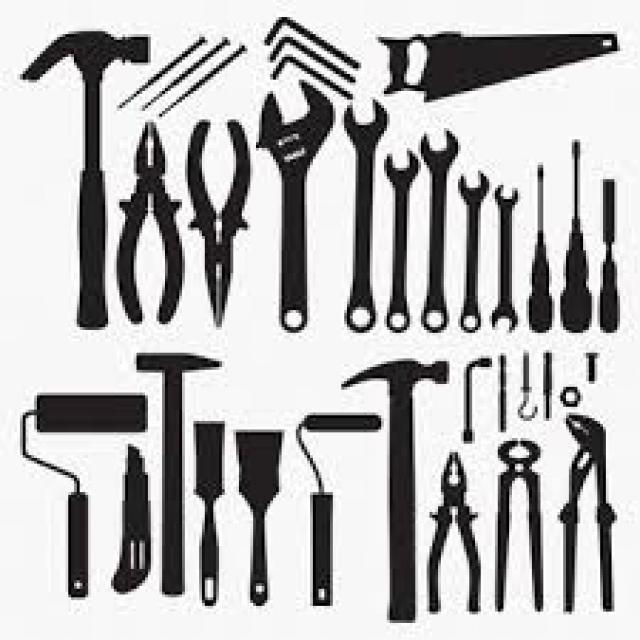hammer: (11, 24, 156, 332), (336, 352, 457, 630), (128, 338, 226, 604)
pliers: (109, 115, 188, 332), (181, 110, 256, 335), (555, 407, 625, 620), (482, 435, 560, 621), (422, 444, 484, 622)
screwdriver: (556, 134, 598, 336), (520, 156, 558, 338), (594, 170, 630, 336)
wrench: (252, 78, 338, 340), (335, 91, 393, 338), (414, 117, 464, 340), (378, 143, 422, 338), (450, 162, 493, 337), (486, 178, 522, 338)
